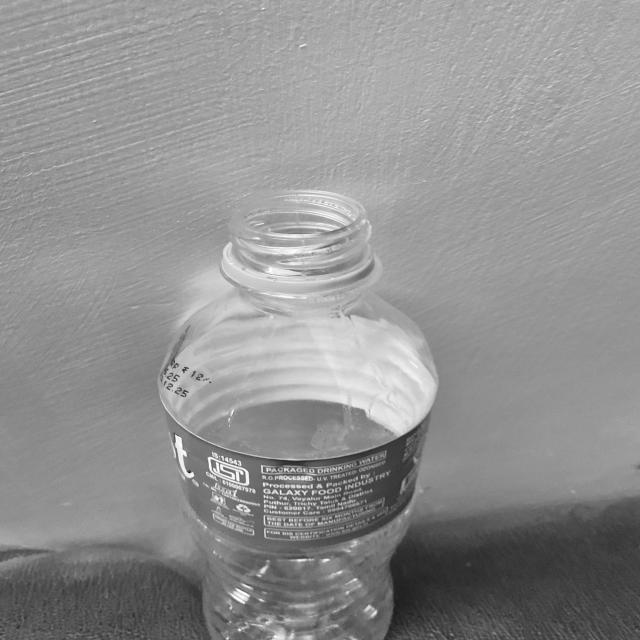open-cap: (217, 189, 380, 289)
